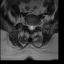CCS_normal: (31, 23, 32, 31)
LFS_normal: (35, 22, 37, 28)
LLS_normal: (32, 23, 34, 31)
RFS_normal: (26, 21, 28, 29)
RLS_normal: (28, 23, 31, 31)
